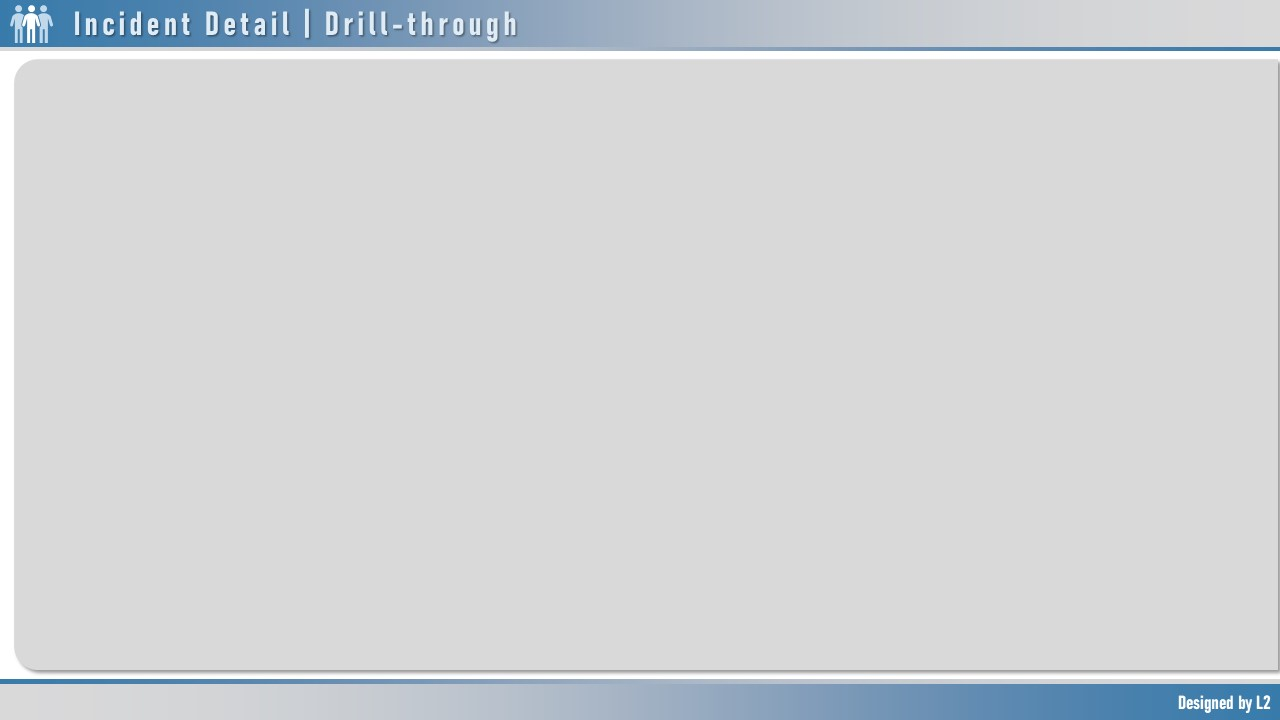

The dashboard page shown, as its layout file describes it:
{"tool":"powerbi","page":{"name":"BACKLOG DRILLTHROUGH","canvas":[1280,720],"ordinal":6},"visuals":[{"type":"actionButton","box":[0,0,100,40],"z":0},{"type":"tableEx","fields":{"Values":["RAW DATA.Created","RAW DATA.Updated","RAW DATA.Number","RAW DATA.Priority","RAW DATA.On hold reason","MEASURES (2).BacklogCount(updated)","RAW DATA.INC. AGE"]},"box":[26.5,66.1,684.1,580.2],"z":1000}]}

Visuals, with their boxes in screenshot pixels (x1, y1, x2, y2), scaled from the page's 1280x720 canvas onto the 1280x720 screenshot:
actionButton: box(0, 0, 100, 40)
tableEx - RAW DATA.Created x RAW DATA.Updated: box(26, 66, 711, 646)
